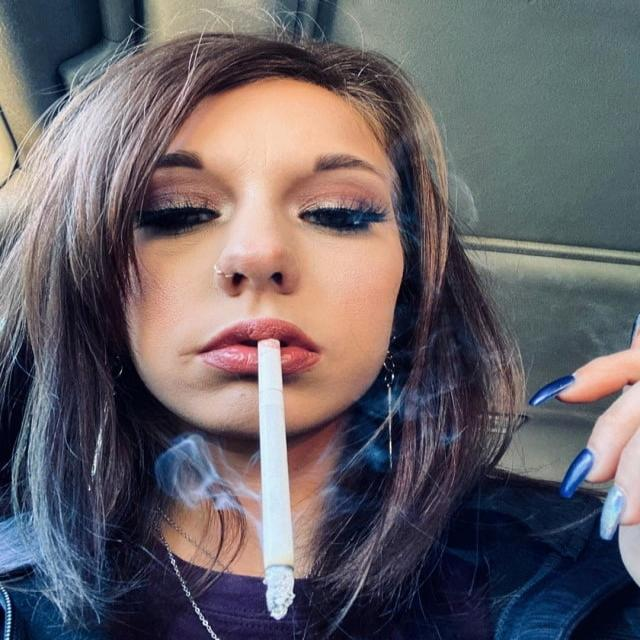smoke: (246, 334, 312, 628)
